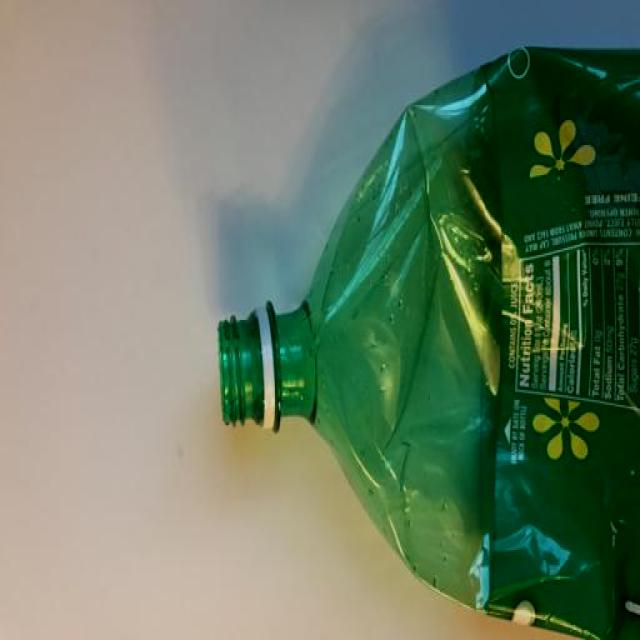inorganic: (127, 175, 640, 589)
